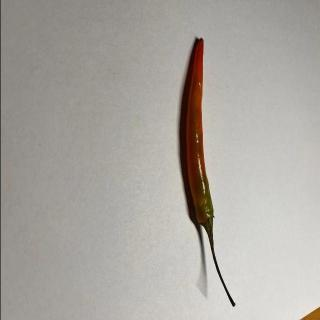Cabai Merah: (184, 36, 238, 310)
